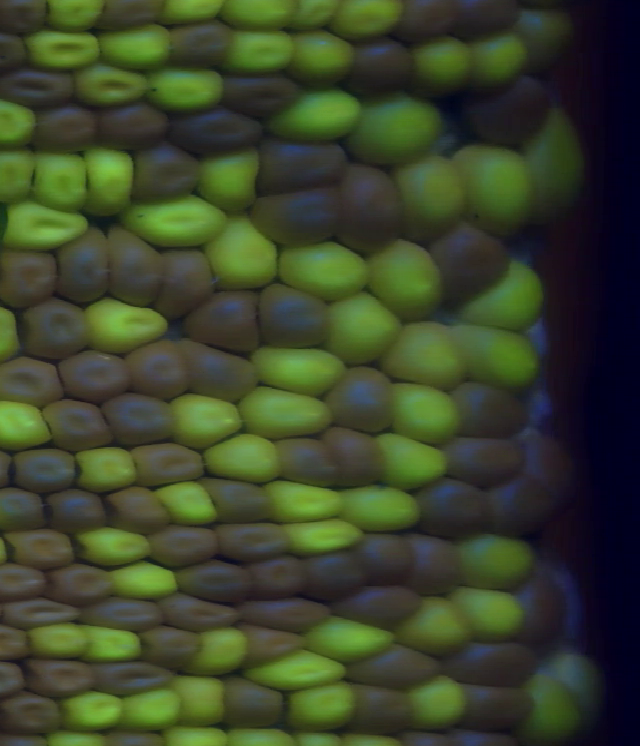fluorescent: (347, 95, 440, 165), (524, 113, 581, 227), (458, 147, 534, 230), (399, 153, 468, 240), (277, 238, 373, 299), (368, 242, 443, 319), (325, 292, 405, 362), (123, 199, 226, 250), (242, 383, 331, 441), (208, 210, 275, 286), (271, 90, 363, 143), (461, 325, 539, 386), (394, 595, 468, 659), (380, 326, 463, 382), (249, 347, 343, 396), (90, 298, 168, 357), (389, 380, 462, 443), (0, 203, 88, 250), (288, 27, 358, 85), (458, 528, 532, 582), (378, 434, 448, 491), (197, 145, 258, 210), (163, 394, 243, 443), (33, 150, 89, 217), (245, 651, 343, 689), (455, 585, 519, 642), (308, 618, 392, 661), (339, 485, 419, 530), (149, 65, 224, 113), (521, 679, 582, 737), (204, 437, 279, 484), (414, 34, 470, 96), (100, 22, 169, 72), (88, 149, 135, 220), (286, 682, 355, 730), (470, 36, 529, 92), (270, 478, 342, 522), (77, 66, 149, 107), (29, 29, 100, 70), (514, 17, 568, 69), (191, 628, 248, 677), (411, 677, 463, 730), (174, 677, 229, 727), (228, 30, 293, 72), (124, 689, 184, 733), (288, 518, 362, 553), (80, 528, 148, 566), (73, 447, 133, 489), (112, 562, 178, 600), (31, 621, 93, 661), (157, 483, 216, 524), (0, 401, 51, 447), (64, 691, 121, 729), (0, 149, 33, 207), (88, 624, 141, 660), (0, 97, 33, 147)
nonfluorescent: (492, 432, 568, 537), (433, 223, 504, 301), (468, 82, 551, 147), (342, 167, 399, 255), (188, 287, 261, 353), (253, 192, 342, 245), (107, 231, 167, 309), (255, 142, 345, 193), (419, 482, 499, 539), (53, 232, 112, 309), (328, 364, 393, 432), (448, 640, 538, 689), (520, 565, 568, 656), (459, 677, 533, 736), (257, 286, 328, 346), (330, 583, 420, 629), (22, 299, 92, 357), (455, 383, 524, 441), (350, 41, 418, 99), (449, 437, 524, 489), (189, 347, 253, 407), (172, 109, 259, 152), (349, 647, 438, 689), (412, 532, 464, 601), (128, 338, 188, 397), (0, 246, 58, 307), (57, 353, 129, 402), (108, 392, 178, 442), (158, 595, 244, 634), (134, 148, 196, 202), (134, 439, 202, 488), (44, 402, 113, 450), (34, 99, 96, 152), (225, 676, 283, 732), (274, 433, 334, 487), (0, 67, 77, 109), (159, 249, 207, 316), (98, 106, 166, 153), (106, 485, 171, 533), (333, 426, 384, 487), (0, 358, 63, 407), (353, 681, 412, 732), (179, 563, 252, 604), (300, 553, 358, 604), (354, 532, 413, 581), (9, 450, 76, 493), (168, 19, 228, 67), (209, 476, 270, 523), (0, 689, 62, 735), (81, 597, 158, 634), (89, 660, 169, 695), (5, 529, 77, 567), (232, 74, 293, 118), (216, 522, 288, 559), (240, 625, 303, 667), (248, 598, 324, 632), (151, 530, 219, 567), (52, 564, 110, 606), (25, 661, 95, 695), (144, 626, 200, 667), (2, 599, 77, 628), (46, 488, 97, 529), (253, 557, 300, 597), (0, 487, 41, 532), (0, 564, 48, 602), (0, 2, 43, 38)
